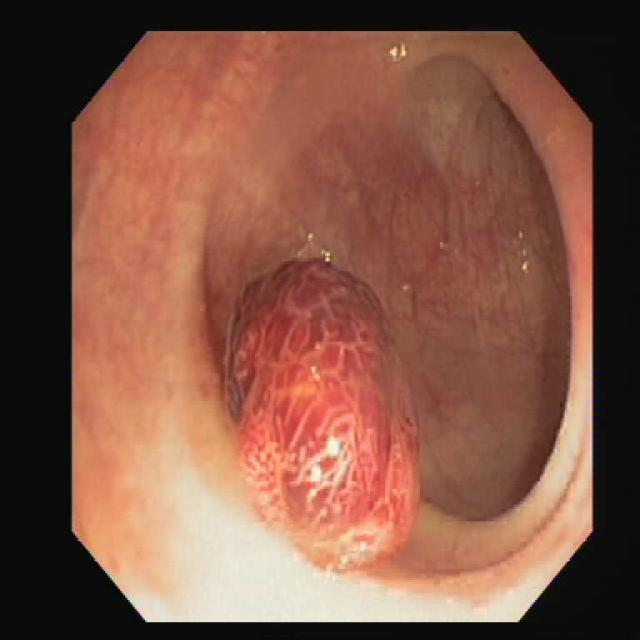tumor: (243, 249, 423, 567)
